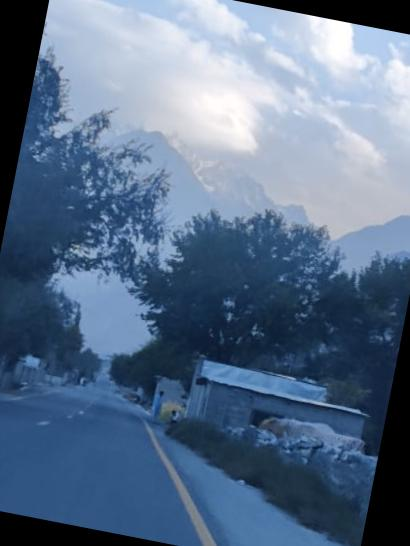sharp_turn: (0, 346, 196, 543)
